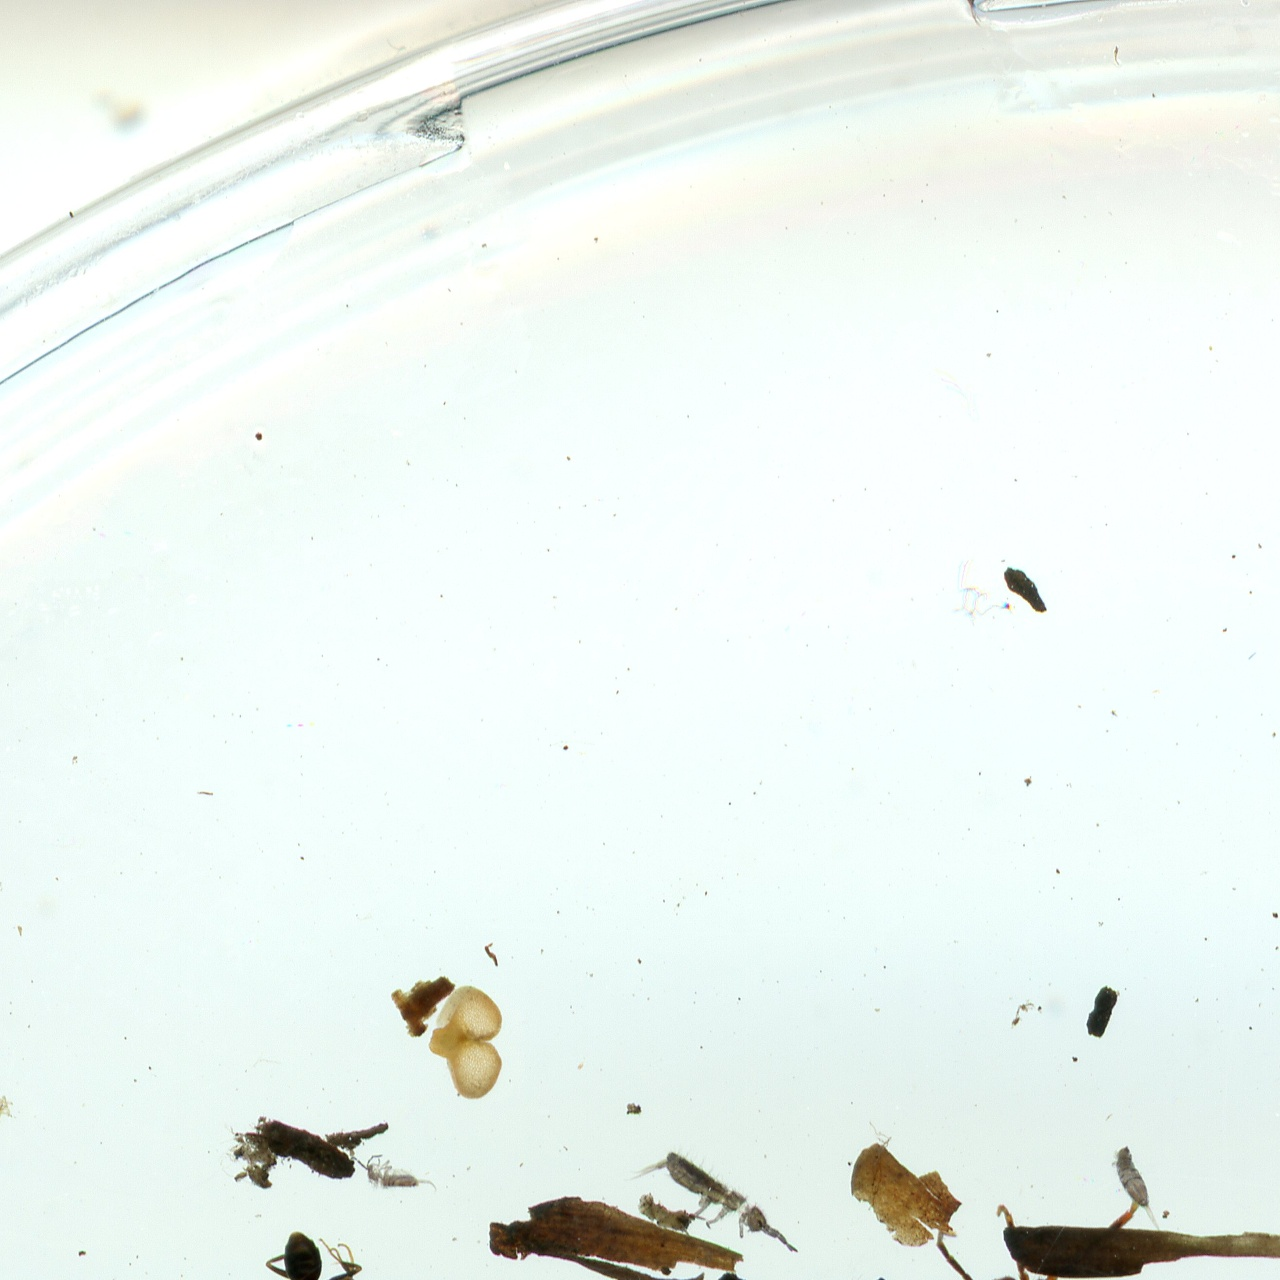arthropod: (770, 1198, 1175, 1280), (614, 1126, 821, 1278), (223, 1228, 372, 1280), (1102, 1133, 1169, 1240), (347, 1149, 442, 1197), (0, 1078, 15, 1163)
